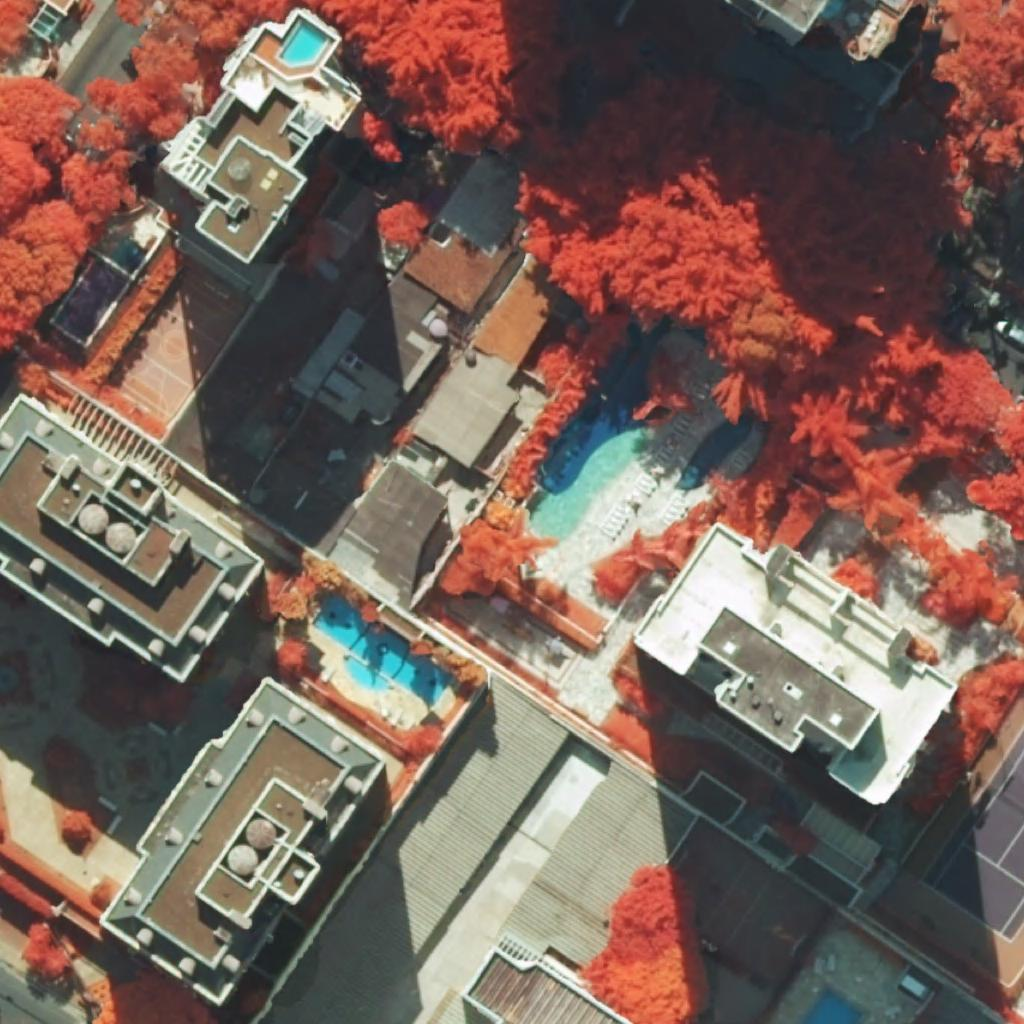pool: (525, 330, 660, 541), (311, 598, 453, 707), (675, 415, 753, 491), (279, 21, 328, 64), (802, 990, 863, 1024)
